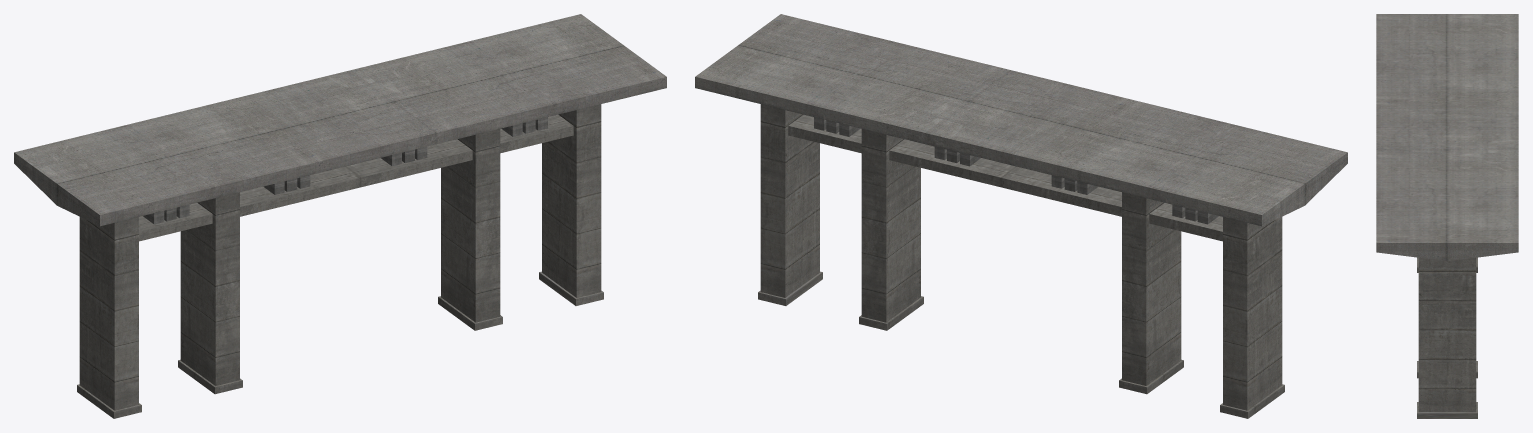
File: Building_Gcdm01.glb
The picture shows the model from 3 angles, left to right: view 1: azimuth 30°, elevation 25°; view 2: azimuth 150°, elevation 25°; view 3: azimuth 270°, elevation 25°; orthographic projection. The views are drawn at different scales.
Parts seen in each view (by area): view 1: xiutz_gcdm_01_0; view 2: xiutz_gcdm_01_0; view 3: xiutz_gcdm_01_0.
Boxes of the visible parts, bbox=[...] form: xiutz_gcdm_01_0: bbox=[14, 14, 666, 418]; xiutz_gcdm_01_0: bbox=[695, 14, 1347, 418]; xiutz_gcdm_01_0: bbox=[1376, 14, 1518, 418].
Size of the model in its own units: 33.34 by 12.98 by 8.74.
2 materials, 2 textured.
